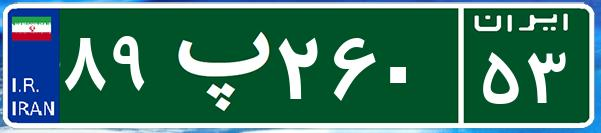0: (385, 28, 445, 110)
2: (273, 28, 330, 110)
3: (525, 38, 570, 115)
5: (475, 38, 525, 113)
6: (330, 28, 385, 110)
8: (57, 26, 110, 107)
9: (110, 28, 158, 105)
پ: (158, 15, 273, 115)
